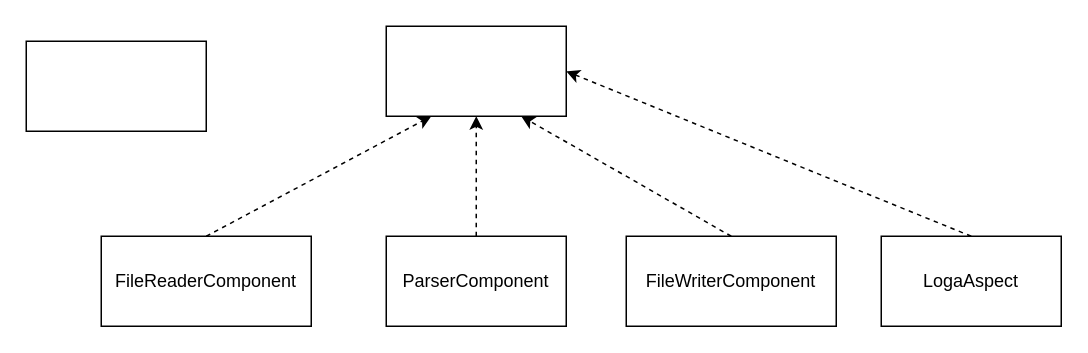
This 1088x353 diagram has some shape labels left out. Each missing label, with the box of its shape:
@Loga: (385, 25, 566, 116)
Ap22Application: (25, 40, 206, 131)
